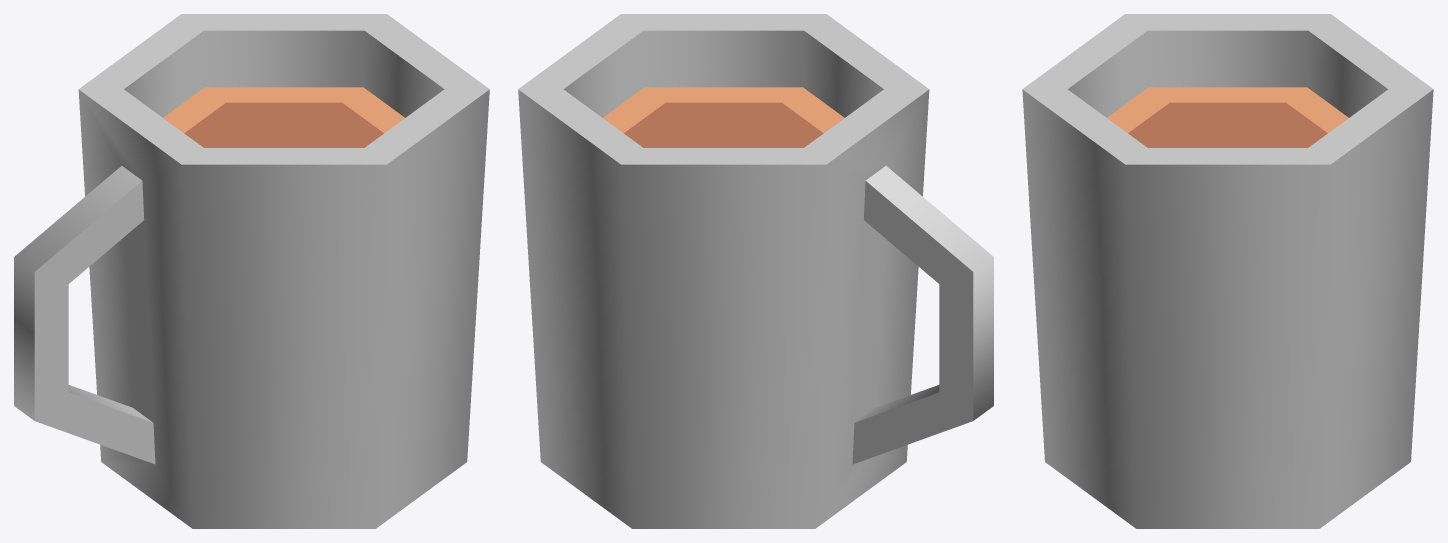
The model's file is cupThea.GLB.
3 views of the same model, side by side, from view 1: azimuth 30°, elevation 25°; view 2: azimuth 150°, elevation 25°; view 3: azimuth 270°, elevation 25° (orthographic).
Parts seen in each view (by area): view 1: cupThea; view 2: cupThea; view 3: cupThea.
Part boxes in pixels (x1,y1,x2,y2): cupThea: [14, 14, 489, 528]; cupThea: [518, 14, 993, 528]; cupThea: [1022, 14, 1433, 528].
Bounding box in the file's own units: 0.2325 × 0.2 × 0.2.
